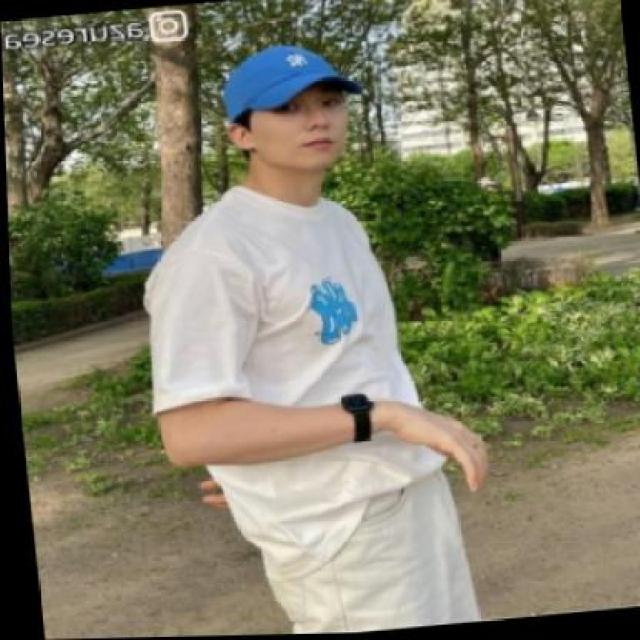hat: (214, 37, 366, 134)
